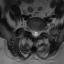CCS_normal: (35, 28, 37, 39)
LFS_normal: (40, 27, 43, 35)
LLS_normal: (37, 28, 39, 38)
RFS_normal: (29, 26, 32, 35)
RLS_normal: (31, 28, 35, 38)
